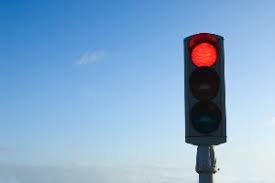red: (184, 33, 226, 145)
